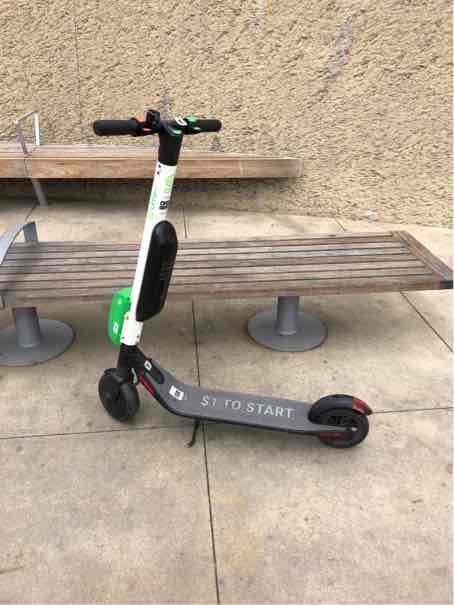scooter: (84, 104, 374, 455)
